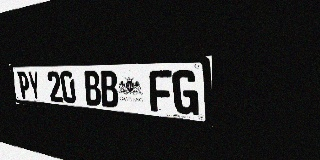0: (59, 71, 77, 104)
2: (47, 71, 63, 103)
B: (99, 71, 119, 108), (83, 71, 102, 106)
F: (149, 70, 173, 113)
G: (172, 70, 199, 116)
P: (17, 71, 31, 100)
Y: (27, 71, 42, 101)
